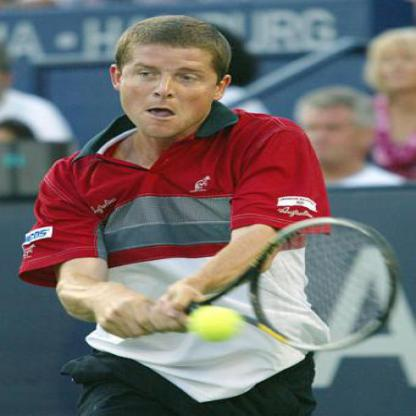face: (122, 18, 222, 140), (297, 90, 366, 165)
